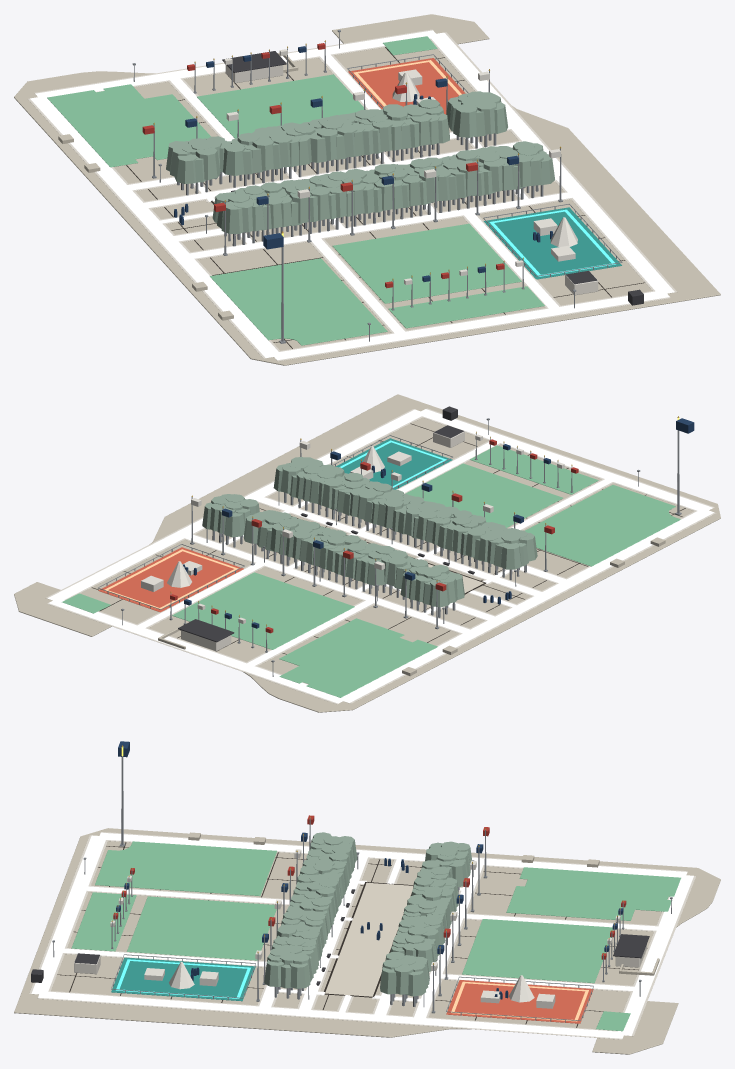
The model's file is civic-center-plaza.glb.
3 renders of one model, top to bottom at view 1: azimuth 30°, elevation 25°; view 2: azimuth 150°, elevation 25°; view 3: azimuth 270°, elevation 25°, orthographic. The views are drawn at different scales.
Parts seen in each view (by area): view 1: deck, trees, lawn_sw, lawn_s_centre, lawn_nw, lawn_n_centre, flagpoles, walk_776062397_glow, play_pad_playground_s, walk_128534075_glow, lawn_s_strip, walk_776062396_glow (+22 smaller); view 2: deck, trees, lawn_n_centre, lawn_sw, lawn_nw, lawn_s_centre, flagpoles, walk_776062397_glow, play_pad_playground_n, walk_128534075_glow, walk_776062396_glow, lawn_s_strip (+20 smaller); view 3: deck, trees, lawn_n_centre, lawn_sw, lawn_s_centre, lawn_nw, gravel_court, walk_128534075_glow, flagpoles, play_pad_playground_n, play_pad_playground_s, walk_776062397_glow (+23 smaller).
Boxes of the visible parts, x1,y1,x2,y2 form: deck: (14,14,720,365); trees: (166,91,554,246); lawn_sw: (210,258,387,345); lawn_s_centre: (332,223,521,303); lawn_nw: (47,84,210,167); lawn_n_centre: (197,74,365,138); flagpoles: (142,40,562,343); walk_776062397_glow: (30,97,280,357); play_pad_playground_s: (483,207,621,279); walk_128534075_glow: (428,32,674,294); lawn_s_strip: (388,286,544,328); walk_776062396_glow: (273,291,669,360); deck: (14,394,720,712); trees: (202,457,537,617); lawn_n_centre: (172,572,354,649); lawn_sw: (525,485,680,566); lawn_nw: (279,618,437,697); lawn_s_centre: (405,463,563,527); flagpoles: (169,416,694,652); walk_776062397_glow: (340,510,714,702); play_pad_playground_n: (98,547,243,612); walk_128534075_glow: (47,409,426,602); walk_776062396_glow: (418,409,712,512); lawn_s_strip: (470,445,598,494); deck: (14,828,720,1054); trees: (264,832,471,1006); lawn_n_centre: (462,919,614,983); lawn_sw: (95,841,276,895); lawn_s_centre: (127,896,276,960); lawn_nw: (506,867,680,920); gravel_court: (325,882,413,996); walk_128534075_glow: (38,991,624,1038); flagpoles: (110,741,626,1013); play_pad_playground_n: (446,980,593,1023); play_pad_playground_s: (111,957,255,1001); walk_776062397_glow: (99,832,687,877).
Size of the model in its own units: 146 by 30.48 by 193.
